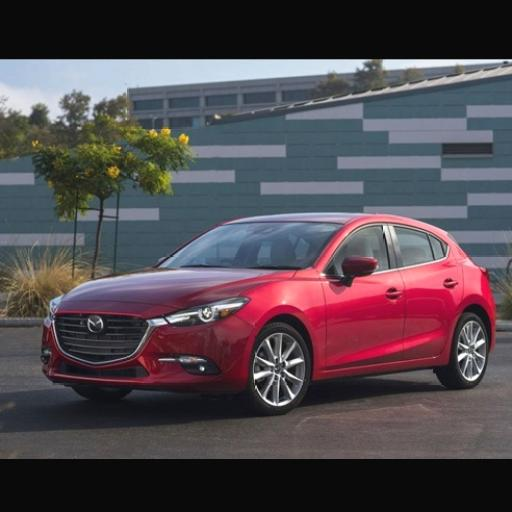hatchback: (44, 212, 496, 415)
